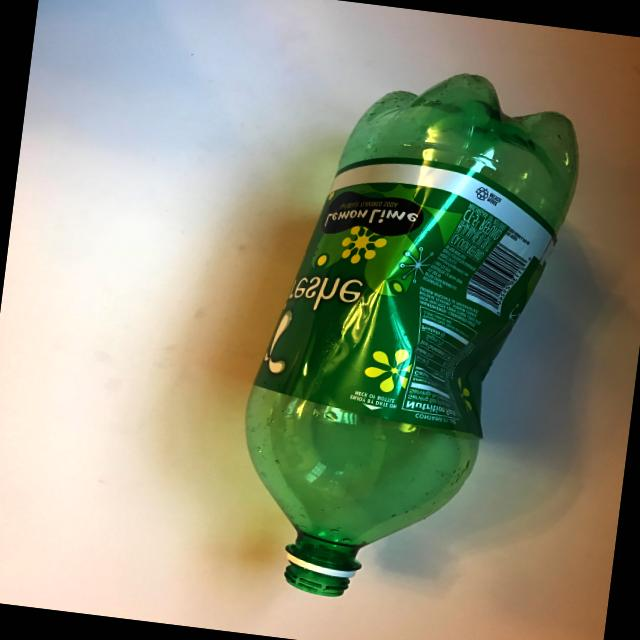Plastic: (194, 39, 599, 632)
